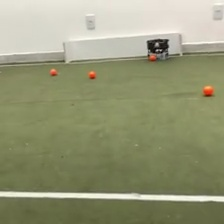ball: (201, 83, 214, 96), (87, 69, 96, 79), (48, 67, 57, 76), (149, 53, 157, 61)
goal: (62, 30, 183, 65)
robot: (146, 36, 170, 61)
